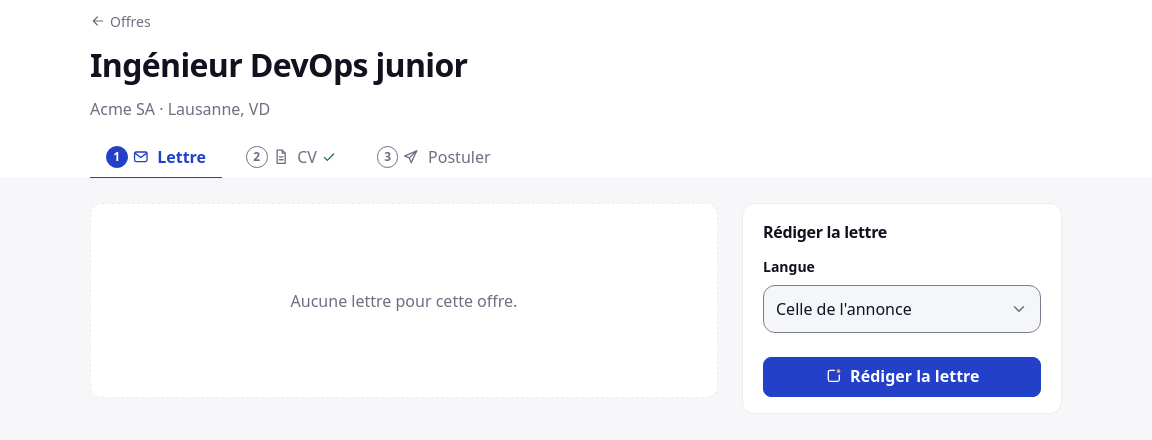
Test: PreparationView › erreur de l'API : message lisible
Click the button with test id "write".
click(902, 377)  # box [763, 357, 1041, 397]
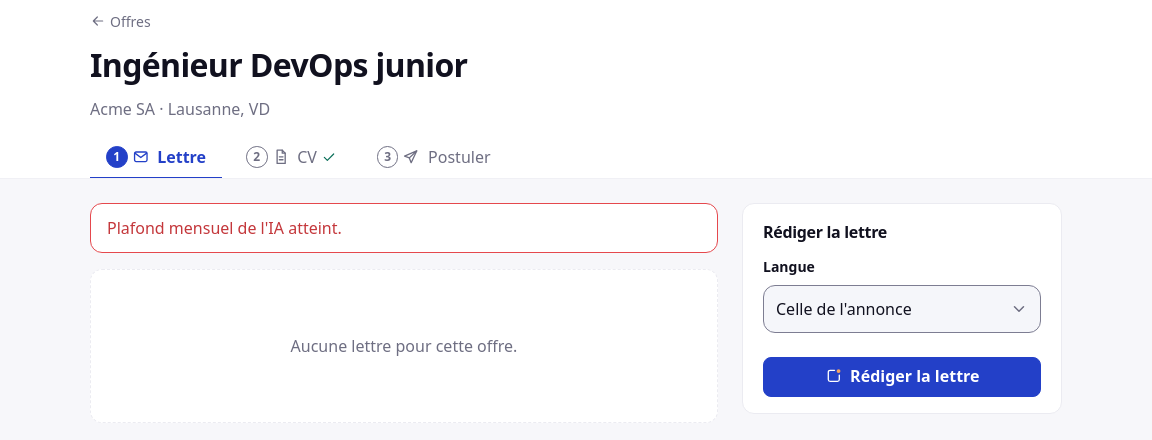
expect the message "Plafond mensuel de l'IA atteint." is shown: met, box [90, 203, 718, 253]
